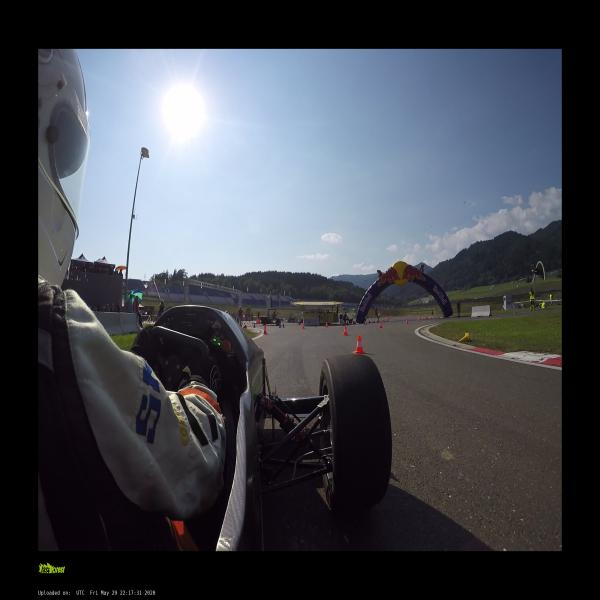orange_cone: (354, 335, 365, 353), (343, 326, 348, 336), (263, 326, 267, 334), (378, 321, 382, 328), (302, 323, 304, 329), (326, 322, 328, 328), (406, 319, 408, 324), (433, 316, 436, 319), (364, 320, 366, 324), (417, 318, 419, 321), (422, 316, 424, 319), (425, 317, 428, 319), (430, 317, 432, 320), (438, 315, 440, 318)
yellow_cone: (458, 332, 469, 344)
